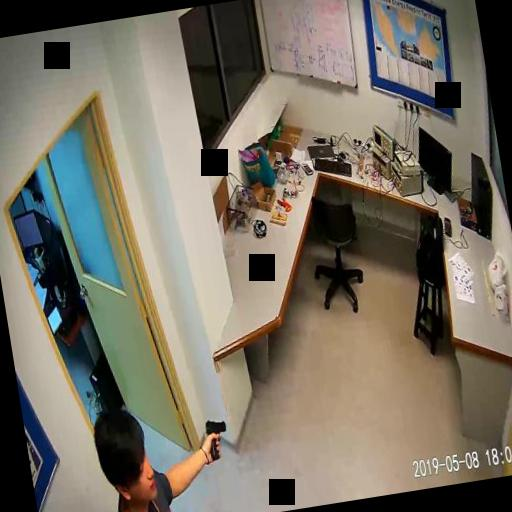Handgun: (202, 415, 229, 461)
